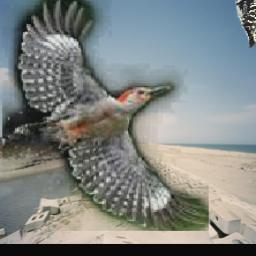Woodpecker: (3, 0, 210, 232), (234, 0, 256, 49)
